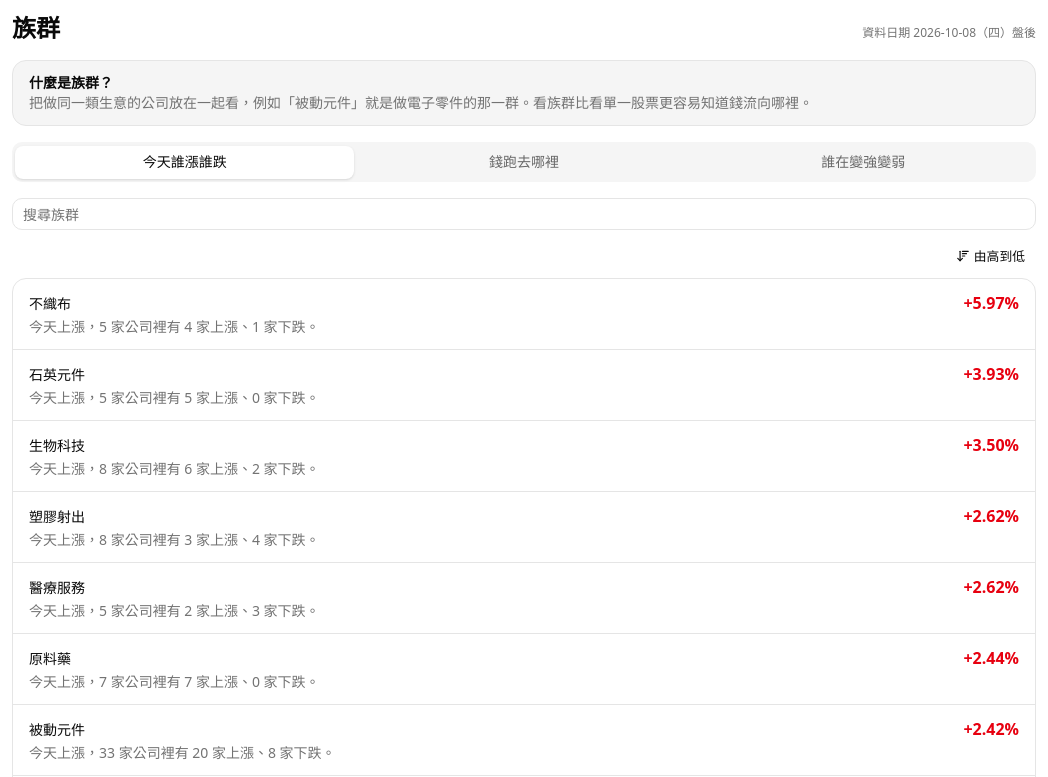
Test: SectorsScreen › explains a digest with no flow lists
Click the tab "錢跑去哪裡" at (524, 162), box [354,146,694,178]
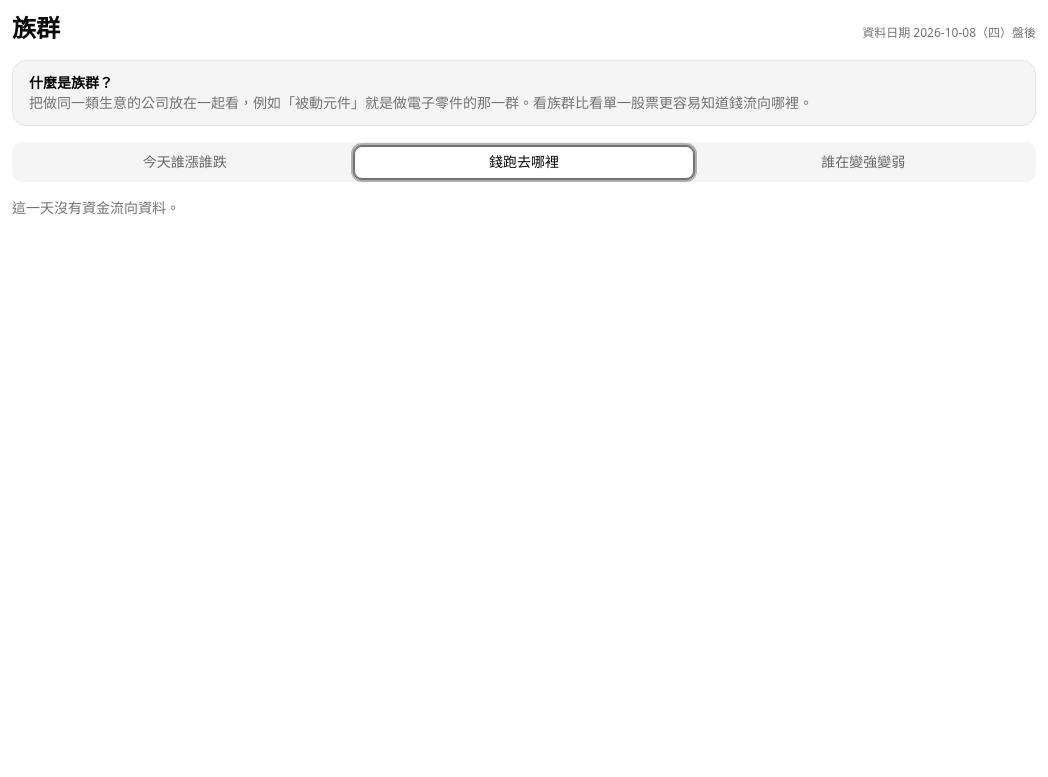
Check: the text "這一天沒有資金流向資料。" is shown, box [12,198,180,217]
